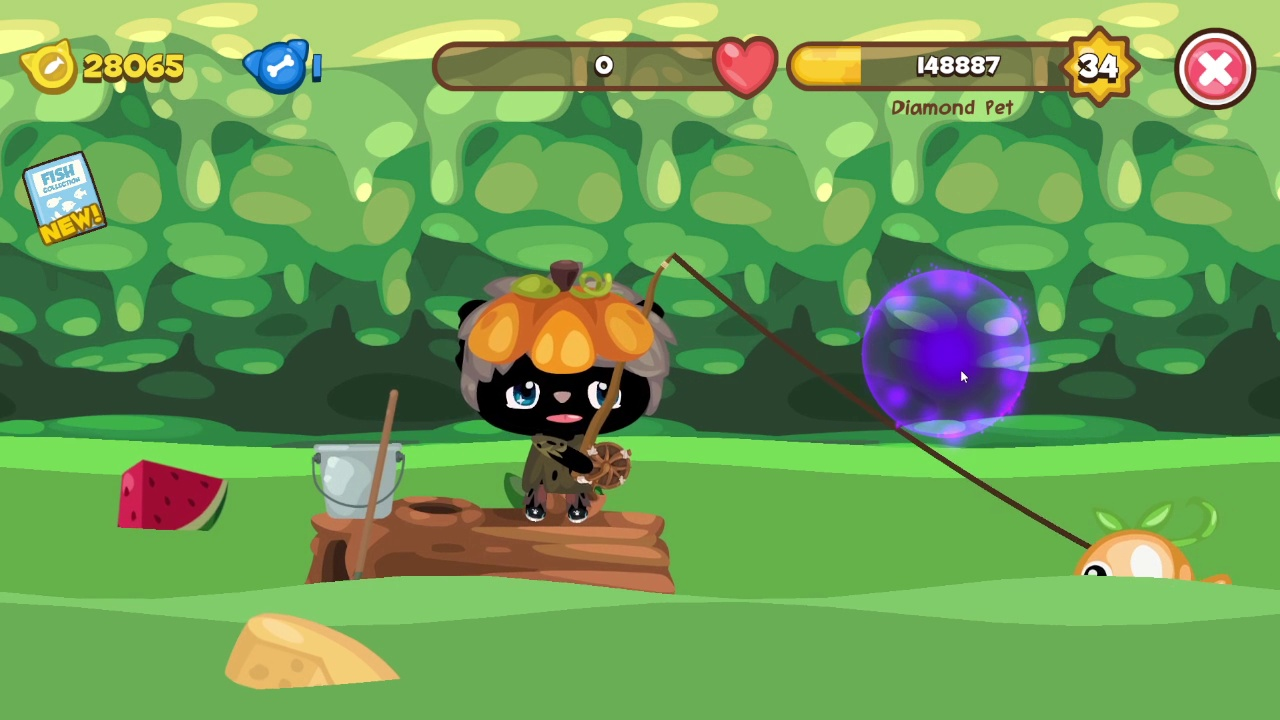point: (859, 267, 1034, 444)
